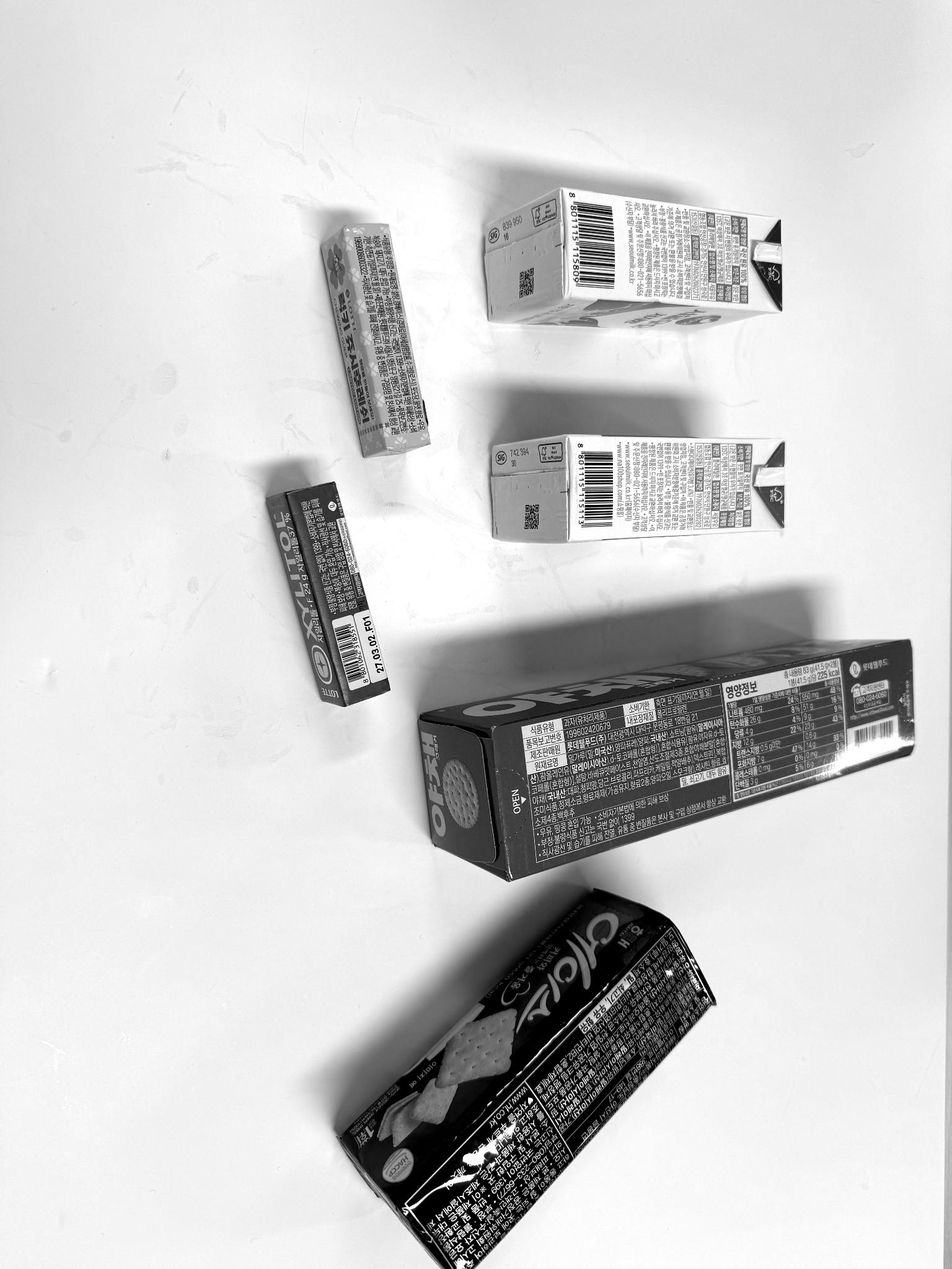cracker_ace: (340, 890, 716, 1269)
cracker_vege: (418, 640, 914, 879)
gum_green: (267, 481, 390, 707)
gum_yellow: (322, 223, 430, 457)
milk_blue: (484, 188, 782, 333)
milk_green: (490, 433, 785, 544)
